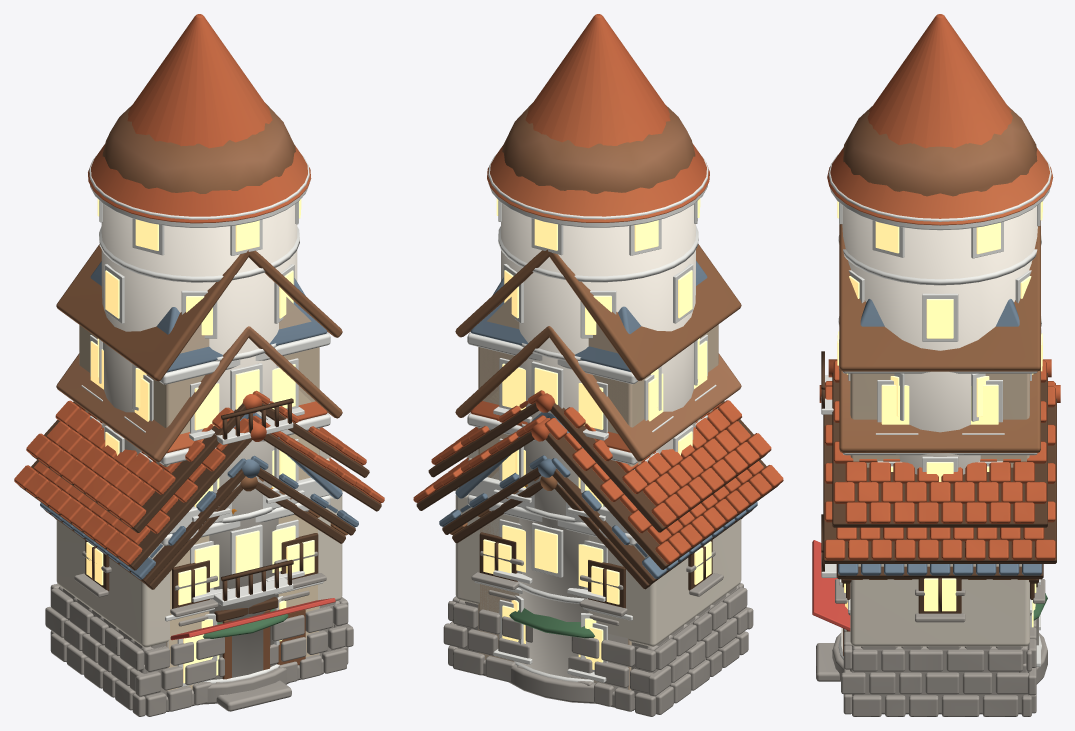
File: props.glb
3 views of the same model, side by side, from view 1: azimuth 30°, elevation 25°; view 2: azimuth 150°, elevation 25°; view 3: azimuth 270°, elevation 25° (orthographic).
Visible parts, largest first — view 1: tower_0, house_0, house_3, town_3, town_5, tower_1, town_2, house_1, town_0, town_1, house_2, town_4 (+1 smaller); view 2: tower_0, house_0, house_3, town_5, town_3, tower_1, town_2, house_1, town_0, town_1, house_2, town_4 (+1 smaller); view 3: tower_0, house_0, house_3, town_5, tower_1, town_2, town_3, house_1, town_0, town_1.
Boxes of the visible parts, x1,y1,x2,y2 form: tower_0: (88, 14, 311, 704); house_0: (14, 415, 384, 716); house_3: (26, 390, 369, 707); town_3: (79, 261, 330, 711); town_5: (56, 244, 342, 682); tower_1: (102, 103, 295, 193); town_2: (56, 326, 342, 690); house_1: (40, 455, 358, 700); town_0: (160, 412, 342, 711); town_1: (79, 401, 330, 704); house_2: (55, 476, 347, 589); town_4: (167, 477, 329, 690); tower_0: (487, 14, 709, 703); house_0: (413, 415, 783, 716); house_3: (428, 390, 771, 673); town_5: (455, 244, 741, 689); town_3: (467, 261, 718, 710); tower_1: (502, 103, 695, 193); town_2: (455, 326, 741, 689); house_1: (439, 455, 757, 625); town_0: (455, 412, 637, 705); town_1: (467, 401, 707, 693); house_2: (450, 476, 743, 589); town_4: (468, 477, 629, 690); tower_0: (827, 14, 1053, 684); house_0: (816, 381, 1060, 716); house_3: (828, 359, 1051, 681); town_5: (839, 220, 1040, 614); tower_1: (843, 105, 1037, 196); town_2: (839, 368, 1040, 615); town_3: (821, 299, 1040, 666); house_1: (833, 564, 1043, 680); town_0: (812, 540, 1040, 666); town_1: (821, 453, 1040, 666).
Bounding box in the file's own units: 1.67 × 4.17 × 1.38.
